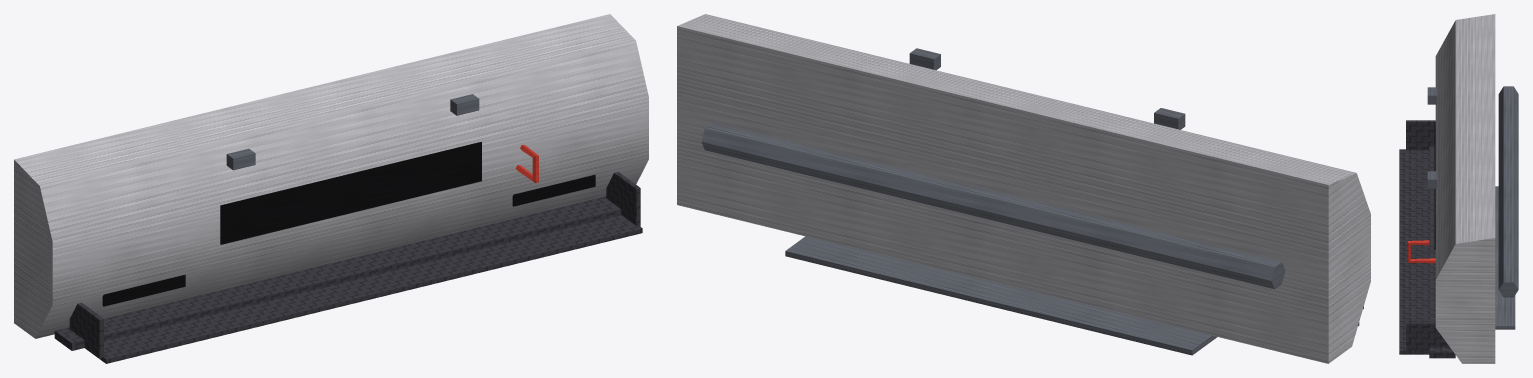
The model's file is para_choque_n4.glb.
3 views of the same model, side by side, from view 1: azimuth 30°, elevation 25°; view 2: azimuth 150°, elevation 25°; view 3: azimuth 270°, elevation 25° (orthographic). The views are drawn at different scales.
Parts seen in each view (by area): view 1: para_choque_n4; view 2: para_choque_n4; view 3: para_choque_n4.
Part boxes in pixels (<box>): para_choque_n4: <box>14,14,648,363</box>; para_choque_n4: <box>677,14,1370,363</box>; para_choque_n4: <box>1399,14,1518,363</box>.
Size of the model in its own units: 1.6 by 0.446 by 0.36.
3 materials, 3 textured.
